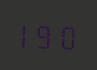nine: (38, 19, 56, 50)
one: (18, 18, 36, 49)
zero: (57, 20, 75, 50)
